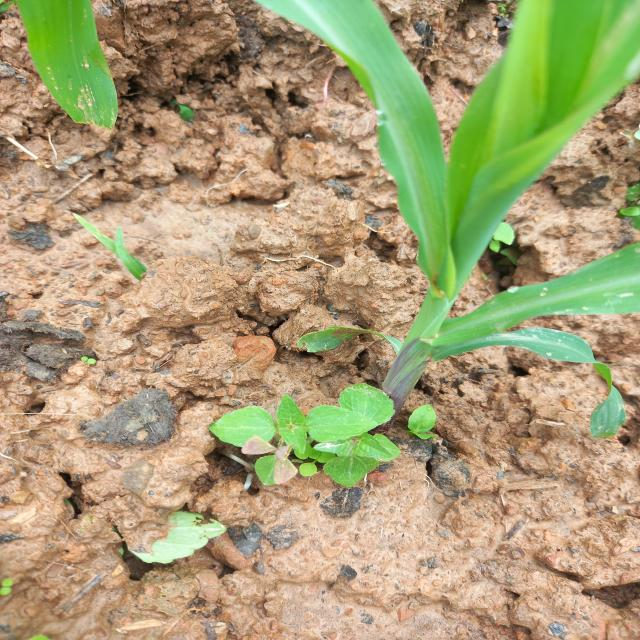maize: (15, 0, 640, 386)
weed: (152, 370, 390, 515)
